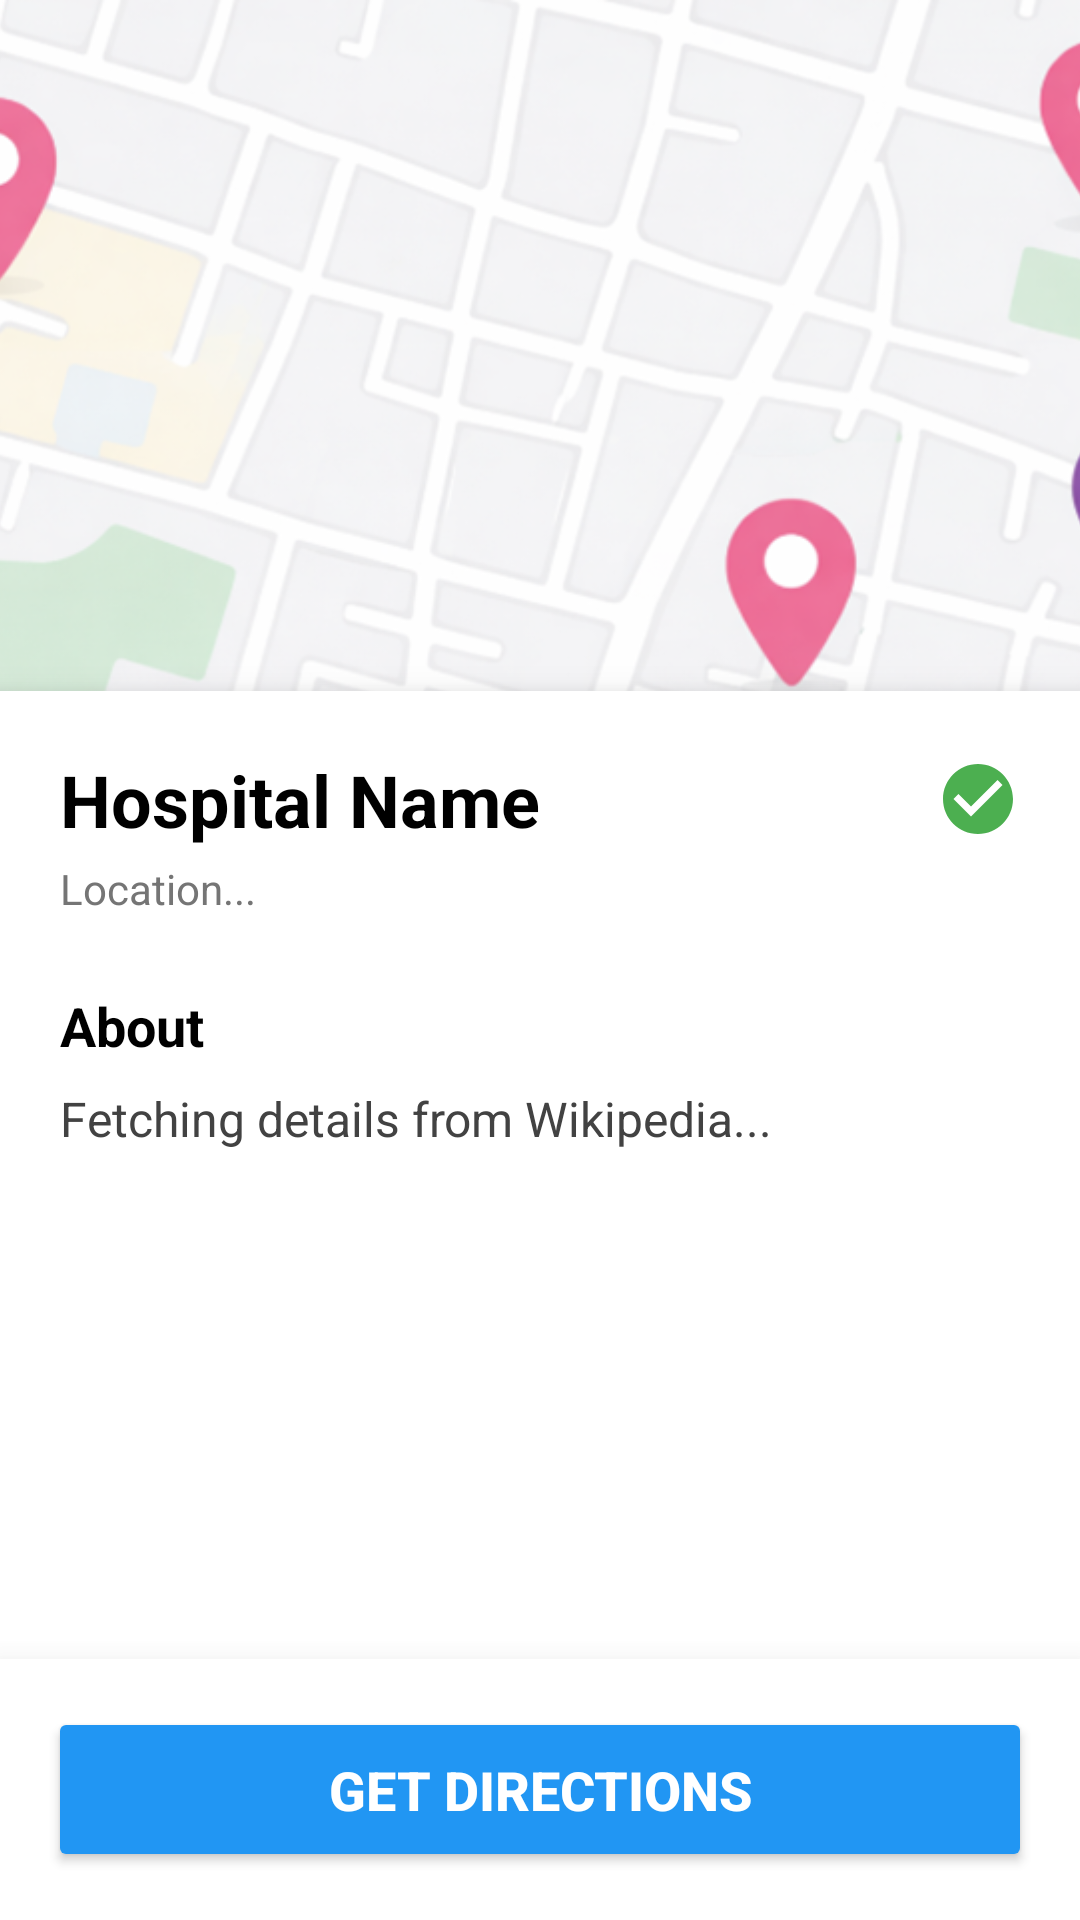

Named icons in this screenshot (1080px×1920px) and their centers, (x=x, y=y):
verified badge: (x=978, y=799)
